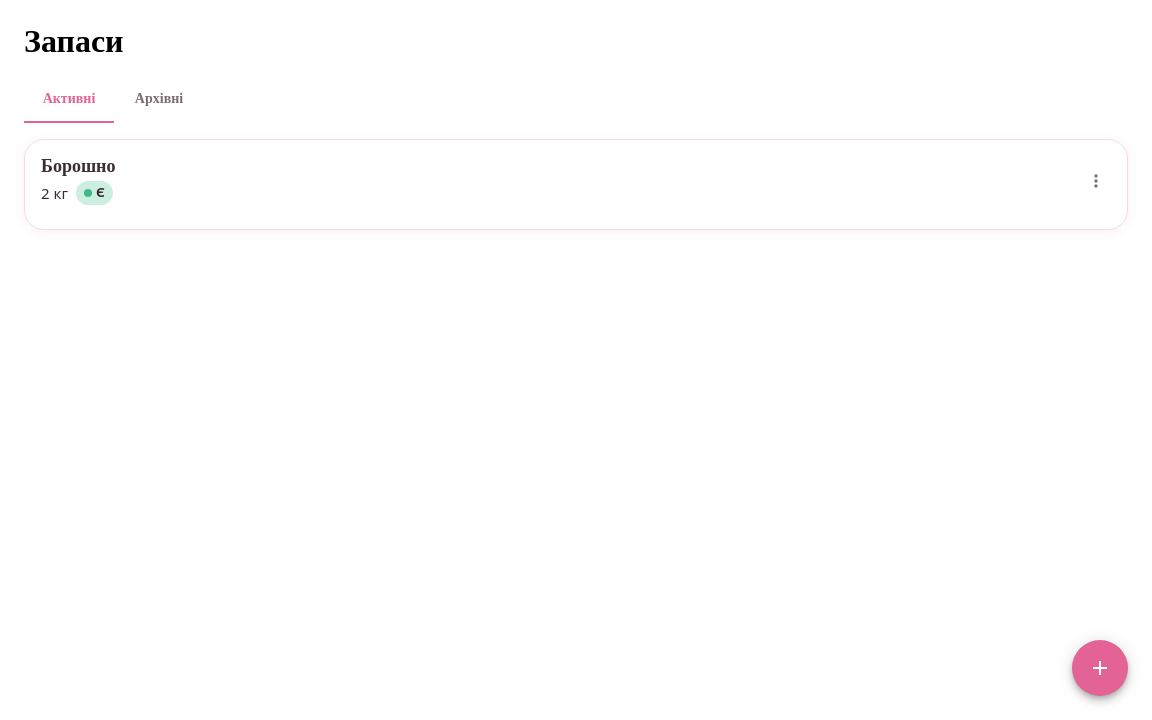
InventoryPage correction dialog › keeps Save disabled until a reason is entered, and re-disables it when the reason is cleared
This screenshot has width=1152, height=720.
Click the button named "Більше дій для «Борошно»" at [1096, 180], box [1081,166,1111,196]
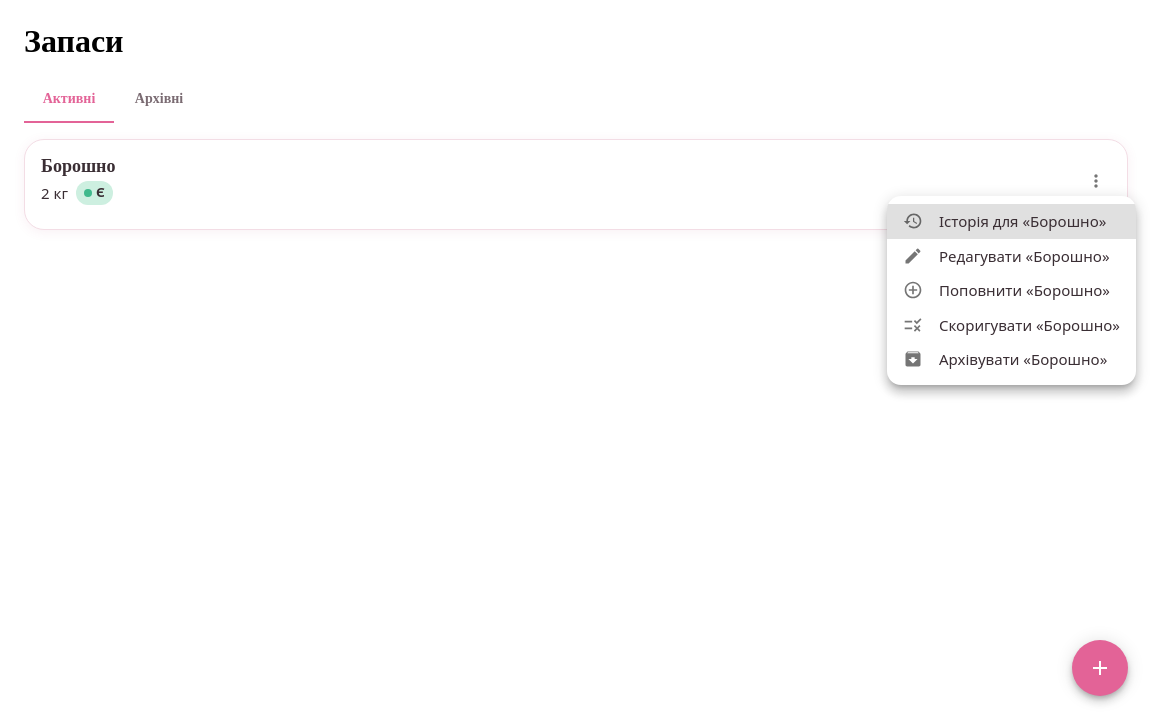
Click the menu item "Скоригувати «Борошно»" at [1011, 325], box [903,314,1120,335]
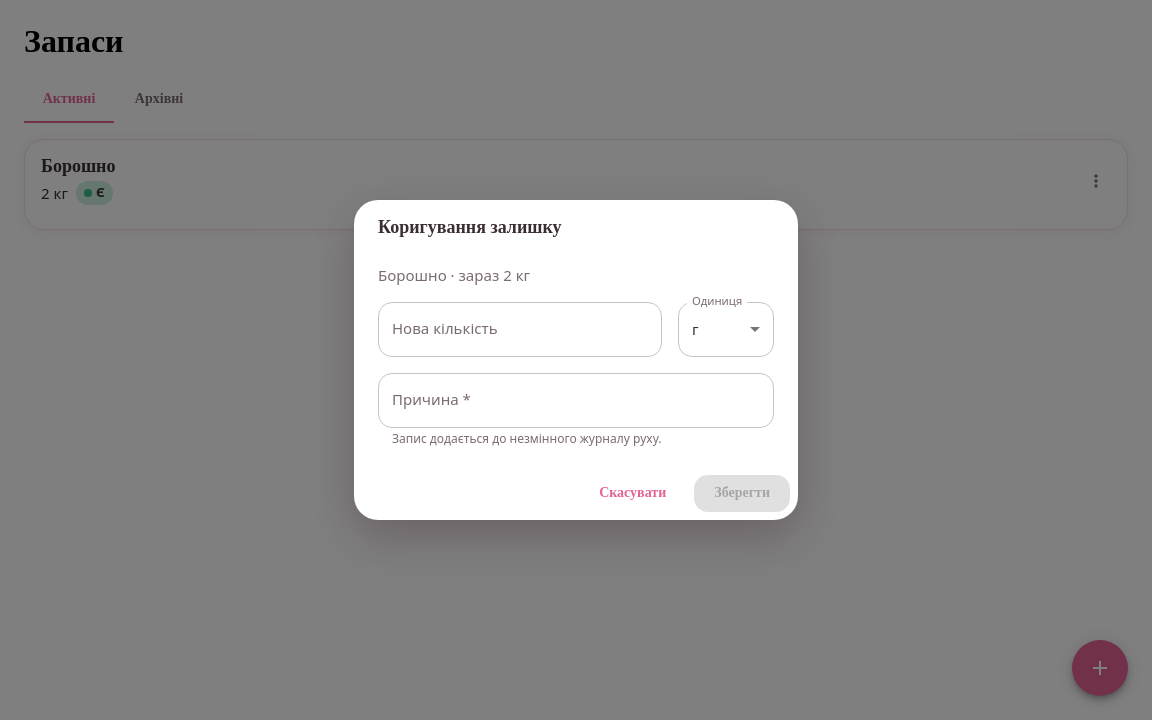
Now the button "Зберегти" is disabled, box [694,475,790,512]
Type "Звірка залишків" into the text box labelled "Причина *" at [576, 400], box [392,389,760,411]
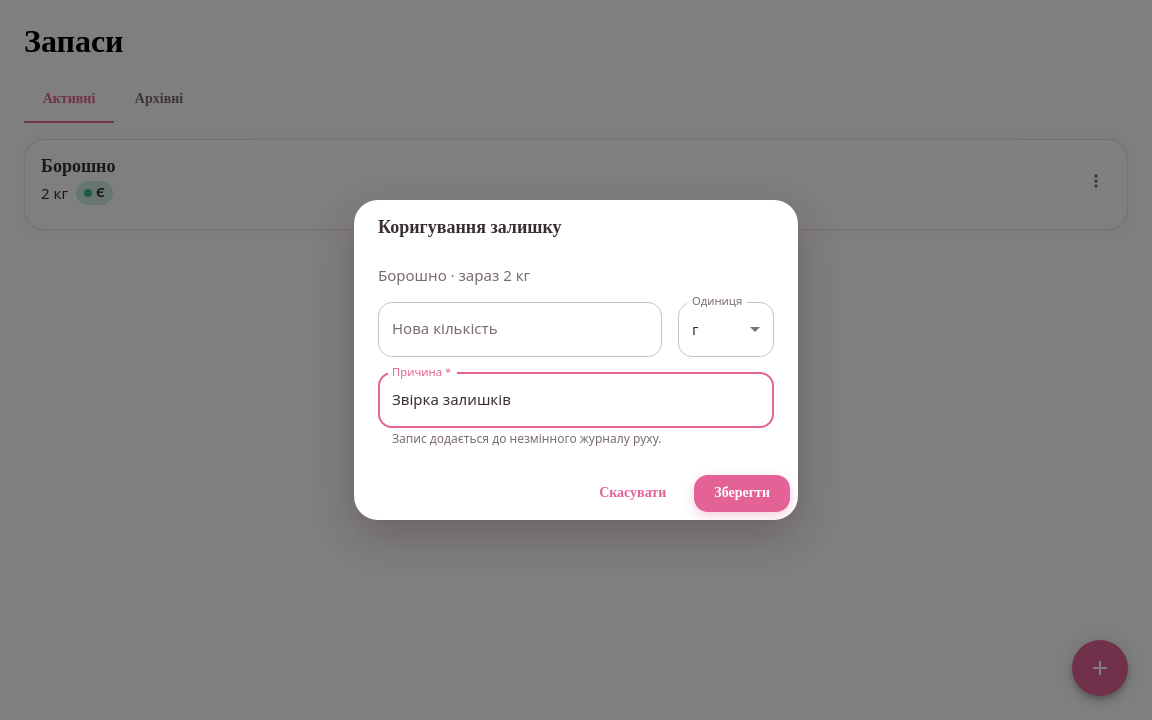
Now the button "Зберегти" is enabled, box [694,475,790,512]
Clear the text box labelled "Причина *" at [576, 400], box [392,389,760,411]
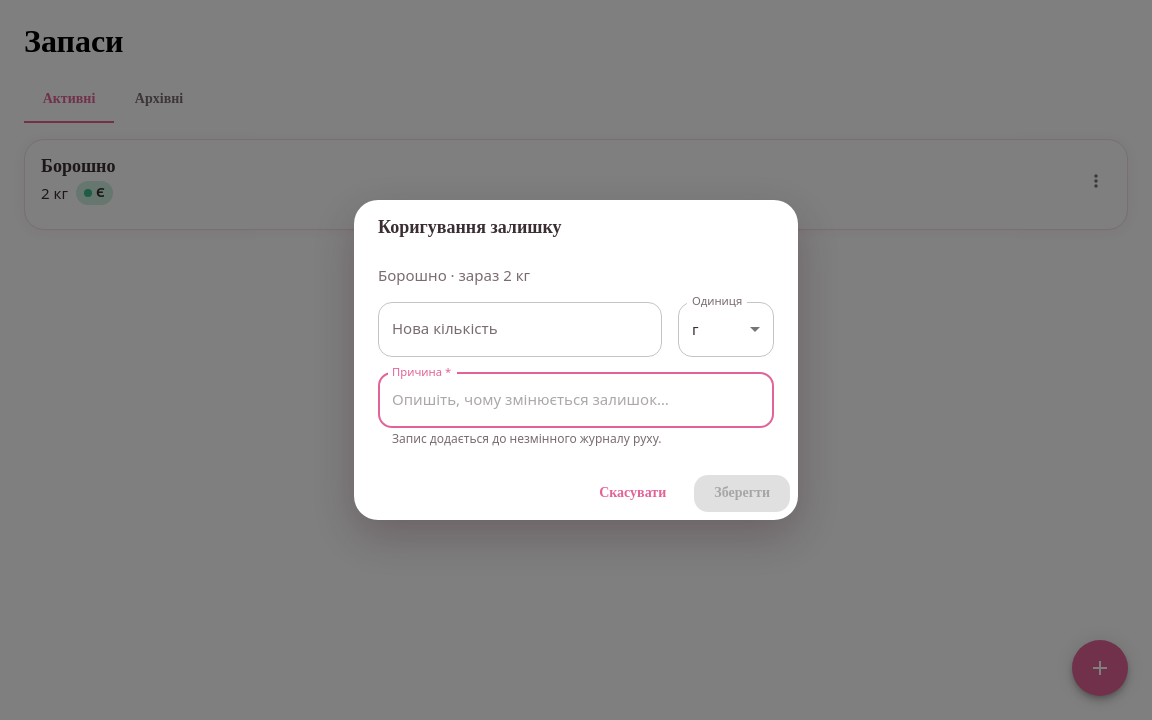
Now the button "Зберегти" is disabled, box [694,475,790,512]
